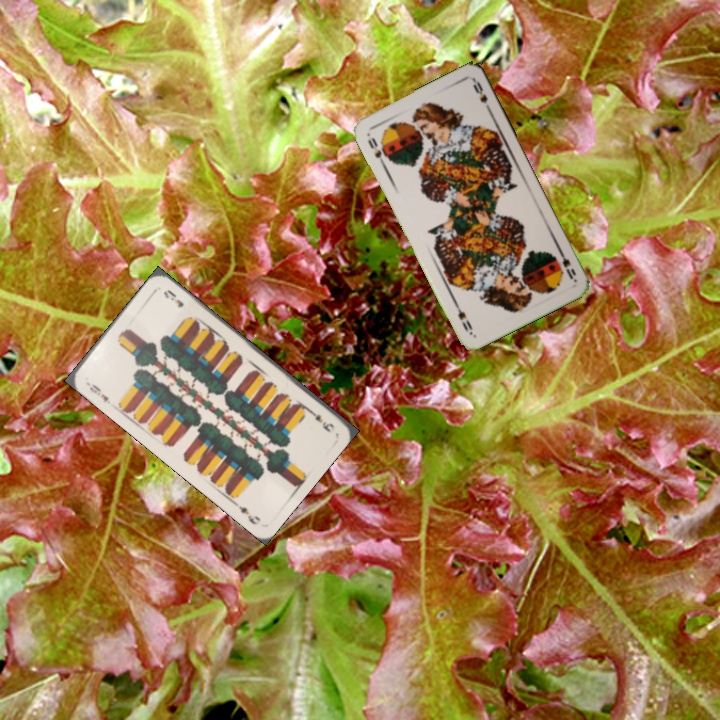E9: (303, 405, 338, 435), (85, 380, 111, 404)
SO: (554, 244, 578, 283), (364, 133, 389, 168)
